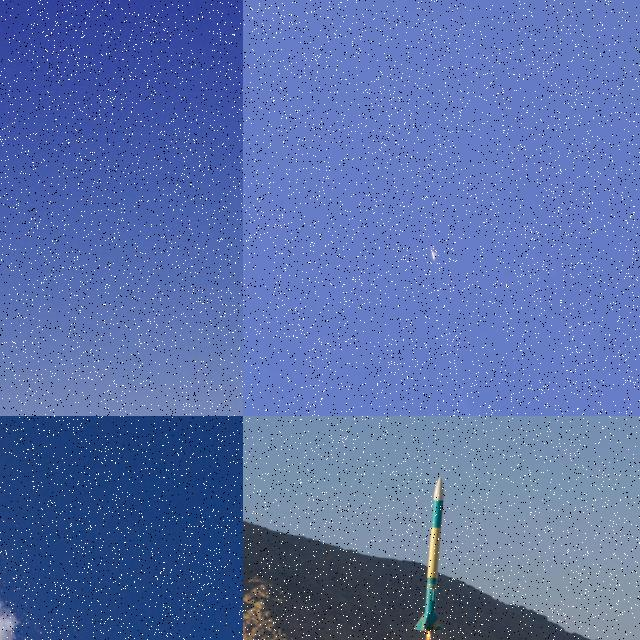Rocket: (413, 476, 445, 634), (430, 246, 438, 261)
